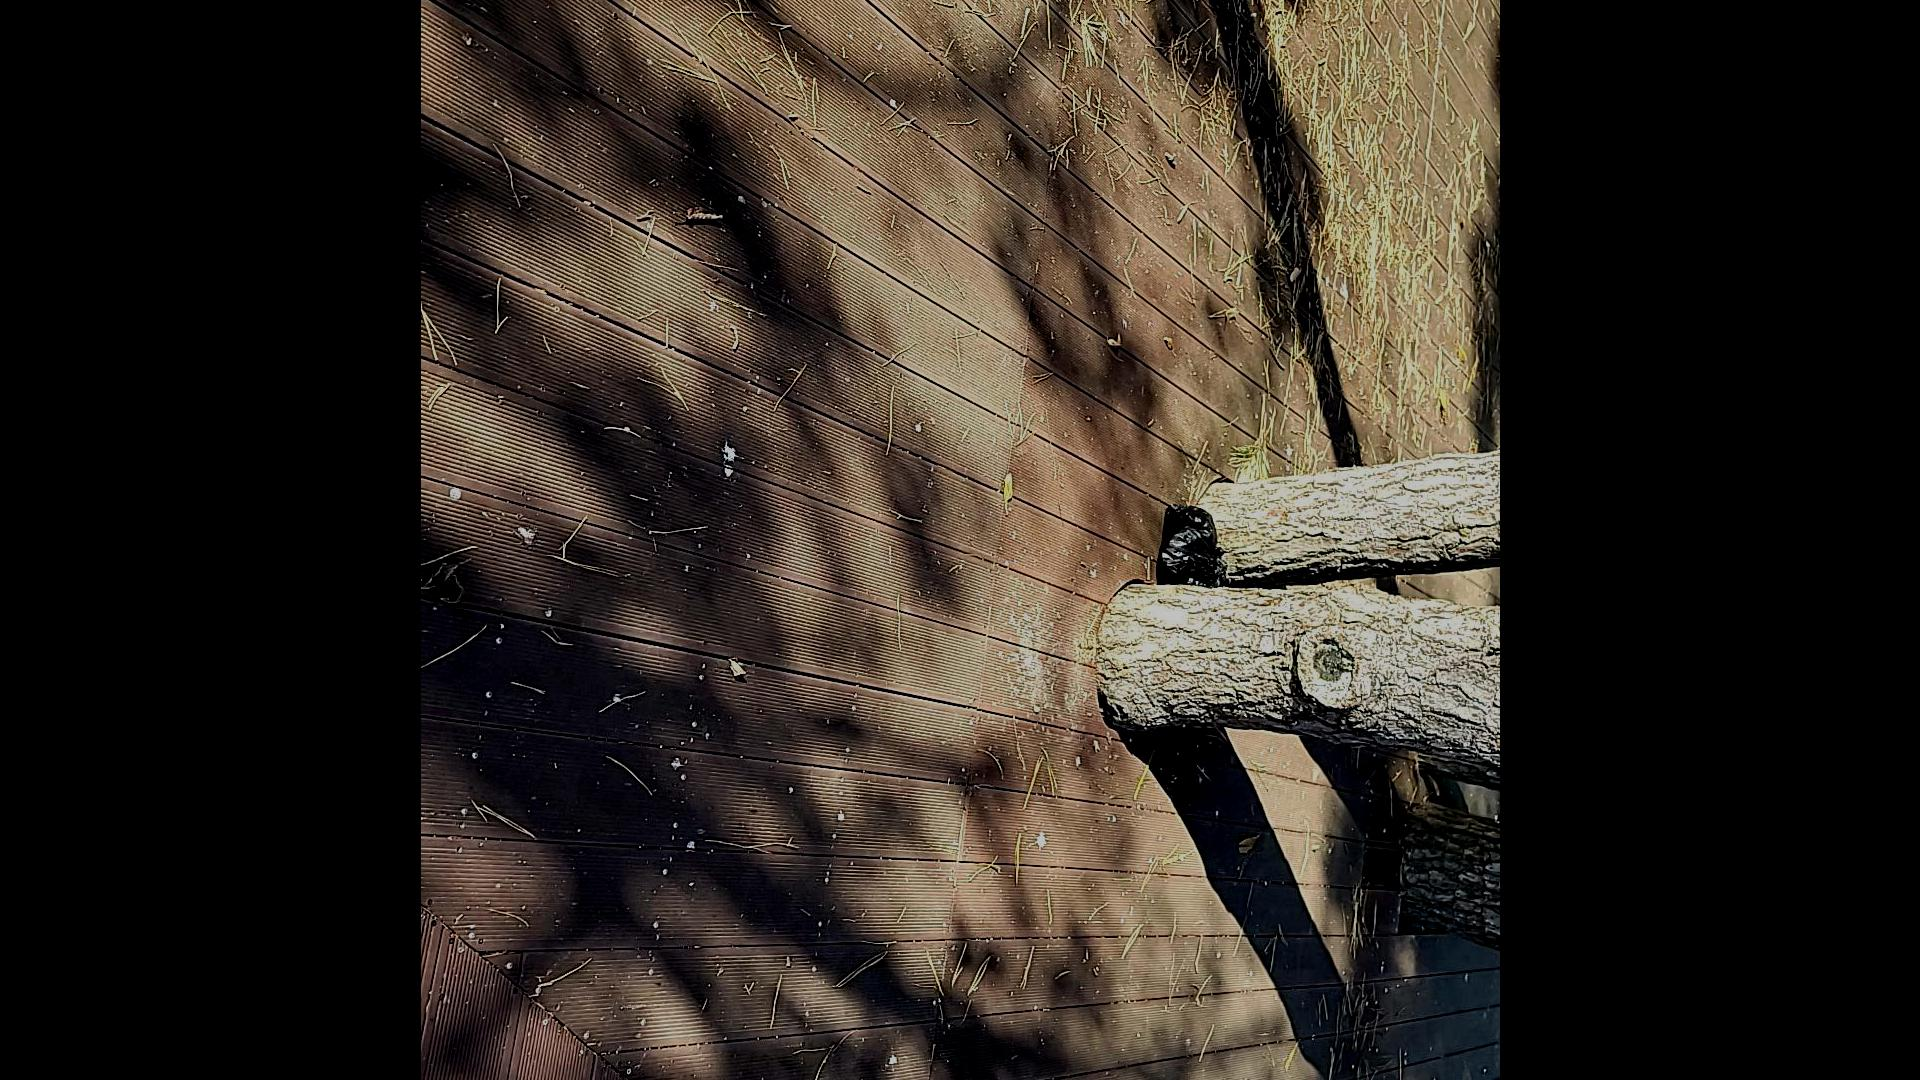black_bag: (1159, 492, 1234, 599)
